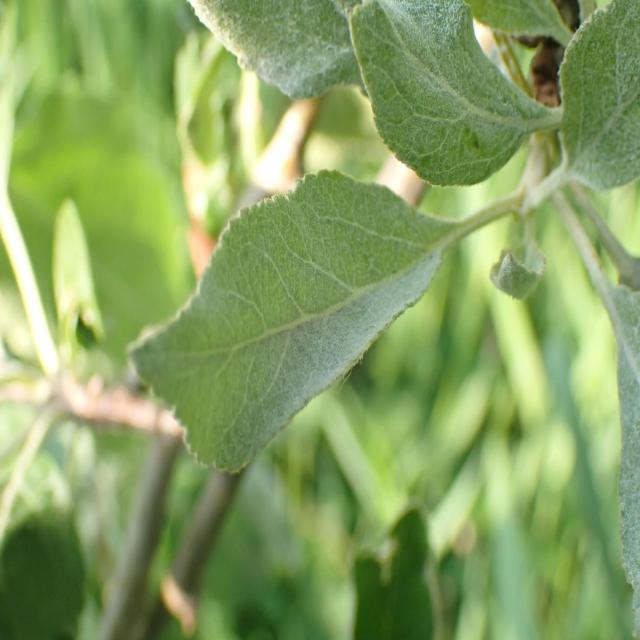Powdery_mildew: (119, 152, 440, 480), (336, 0, 544, 176), (181, 0, 380, 120), (550, 0, 640, 233), (594, 230, 640, 577), (486, 201, 546, 336)
